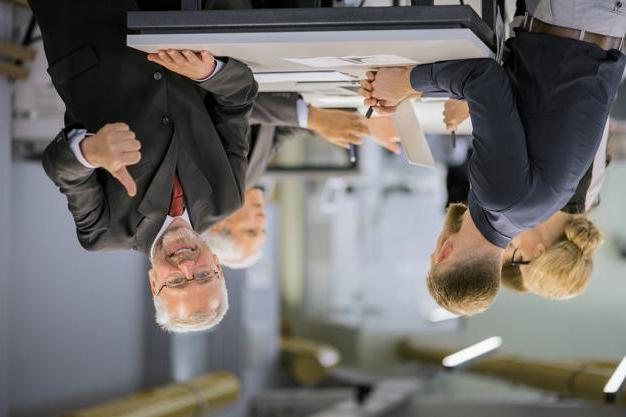thumbsdown: (104, 122, 143, 198)
